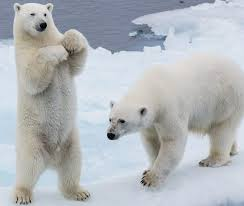PolarBear: (6, 2, 95, 206)
